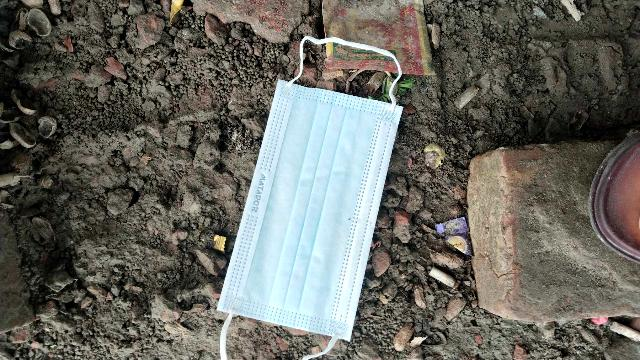mask: (225, 16, 406, 360)
